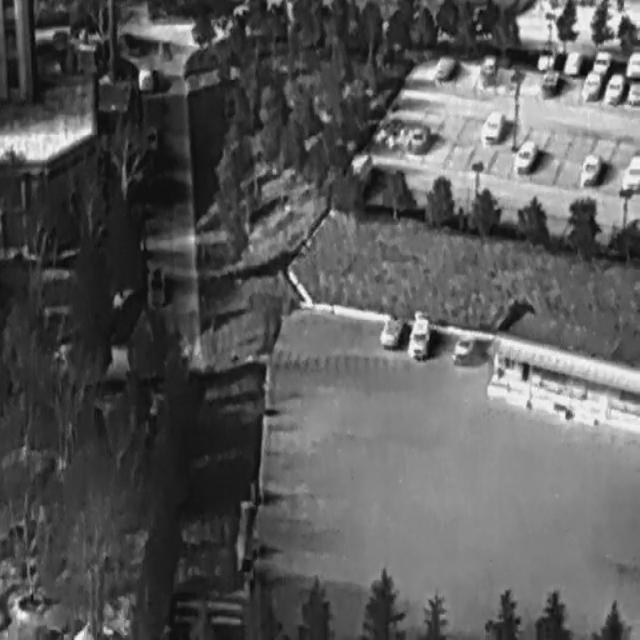Car: (404, 311, 435, 364), (376, 308, 406, 354), (376, 112, 408, 152), (601, 67, 626, 106), (145, 264, 166, 308), (479, 110, 504, 144), (435, 52, 460, 82), (516, 138, 537, 172), (452, 334, 474, 365), (580, 150, 598, 184), (583, 68, 601, 102), (536, 40, 555, 70), (623, 155, 638, 193), (592, 48, 611, 74), (137, 62, 152, 90), (564, 47, 579, 75), (627, 49, 639, 75), (628, 78, 639, 104)
